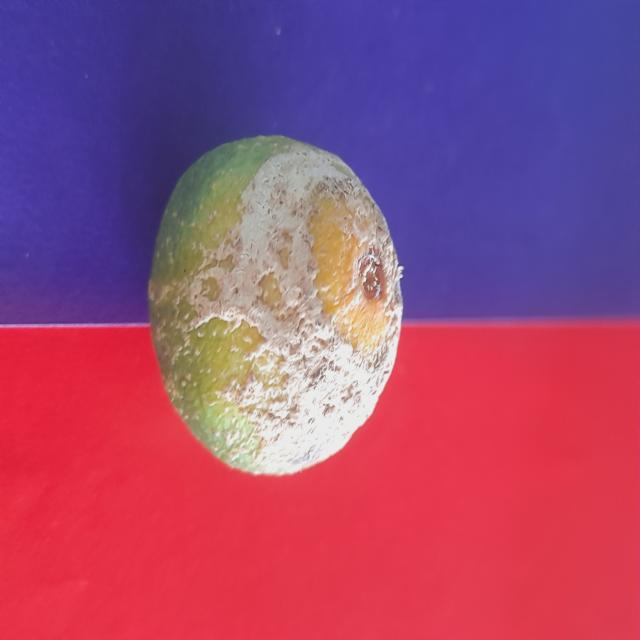thrips: (134, 143, 408, 484)
